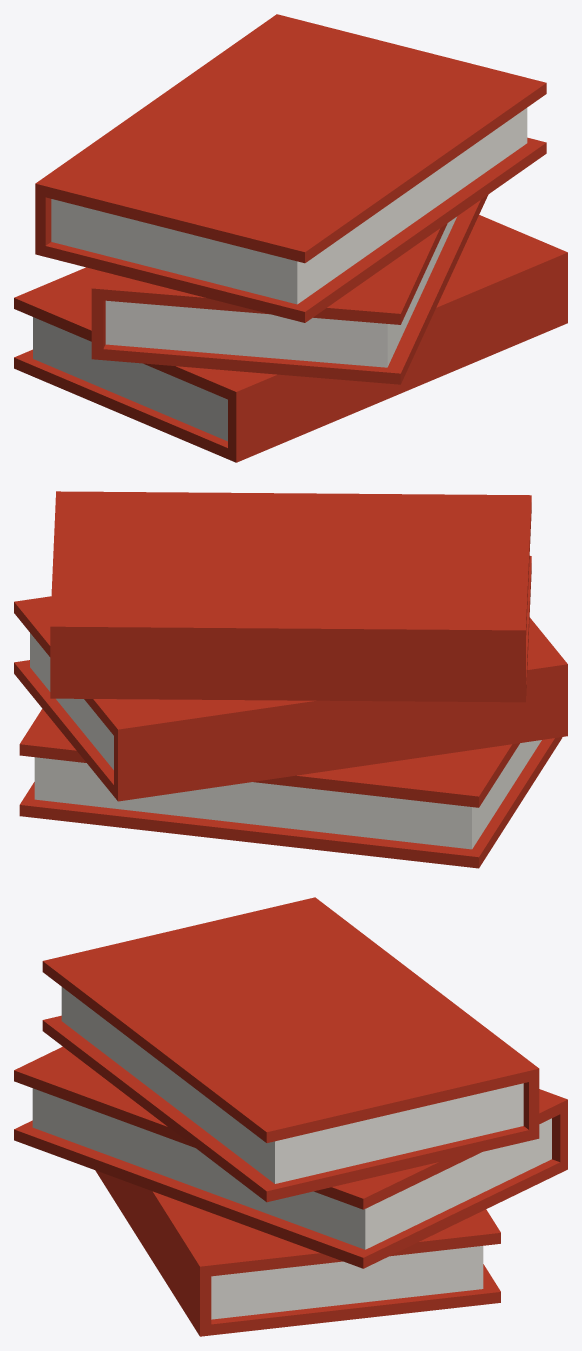
Rendered from books.glb.
3 views of the same model, one above another, from view 1: azimuth 30°, elevation 25°; view 2: azimuth 150°, elevation 25°; view 3: azimuth 270°, elevation 25° (orthographic). The views are drawn at different scales.
Parts seen in each view (by area): view 1: book; view 2: book; view 3: book.
Boxes of the visible parts, box(x1,y1,x2,y2) form: book: box(14, 14, 567, 462); book: box(14, 491, 567, 868); book: box(14, 897, 567, 1336).
Bounding box in the file's own units: 0.3293 × 0.1374 × 0.328.
